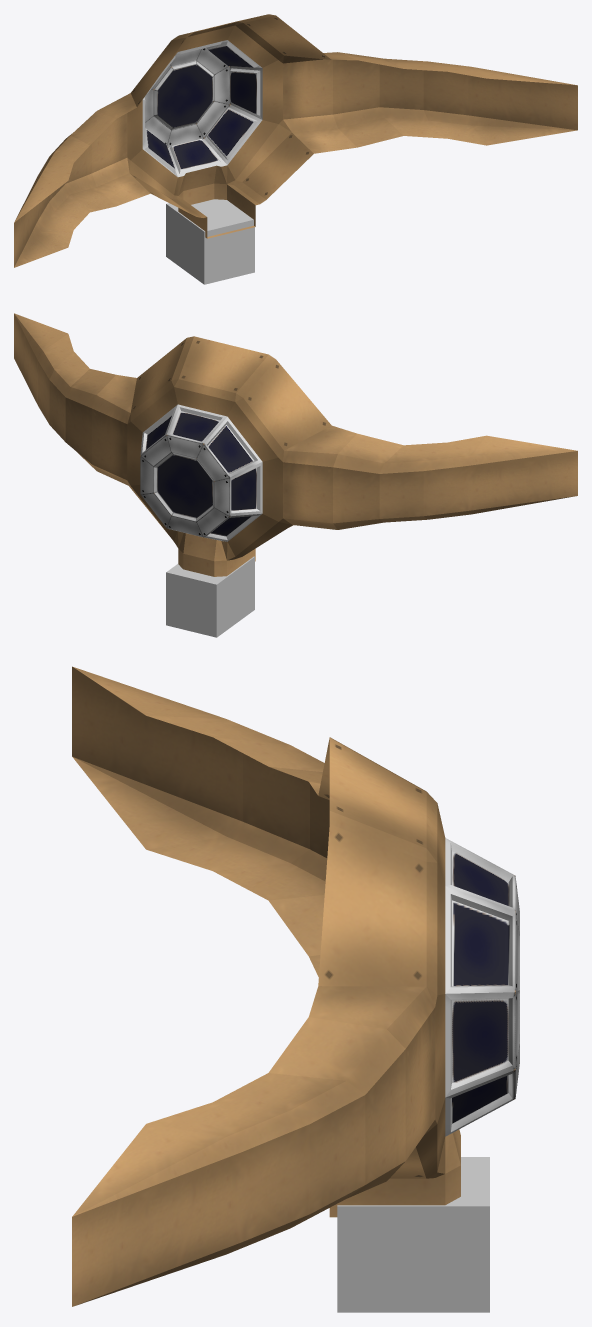
The model's file is cockpit.fbx.
3 views of the same model, one above another, from view 1: azimuth 30°, elevation 25°; view 2: azimuth 150°, elevation 25°; view 3: azimuth 270°, elevation 25° (orthographic). The views are drawn at different scales.
Visible parts, largest first — view 1: cockpit, stairs; view 2: cockpit, stairs; view 3: cockpit, stairs.
Part boxes in pixels (bbox=[...]): cockpit: bbox=[14, 14, 577, 267]; stairs: bbox=[166, 199, 254, 284]; cockpit: bbox=[14, 313, 577, 576]; stairs: bbox=[166, 556, 254, 637]; cockpit: bbox=[72, 666, 519, 1306]; stairs: bbox=[337, 1157, 489, 1312].
Size of what is drawn, in the model's own units: 9.35 by 4.07 by 3.22.
